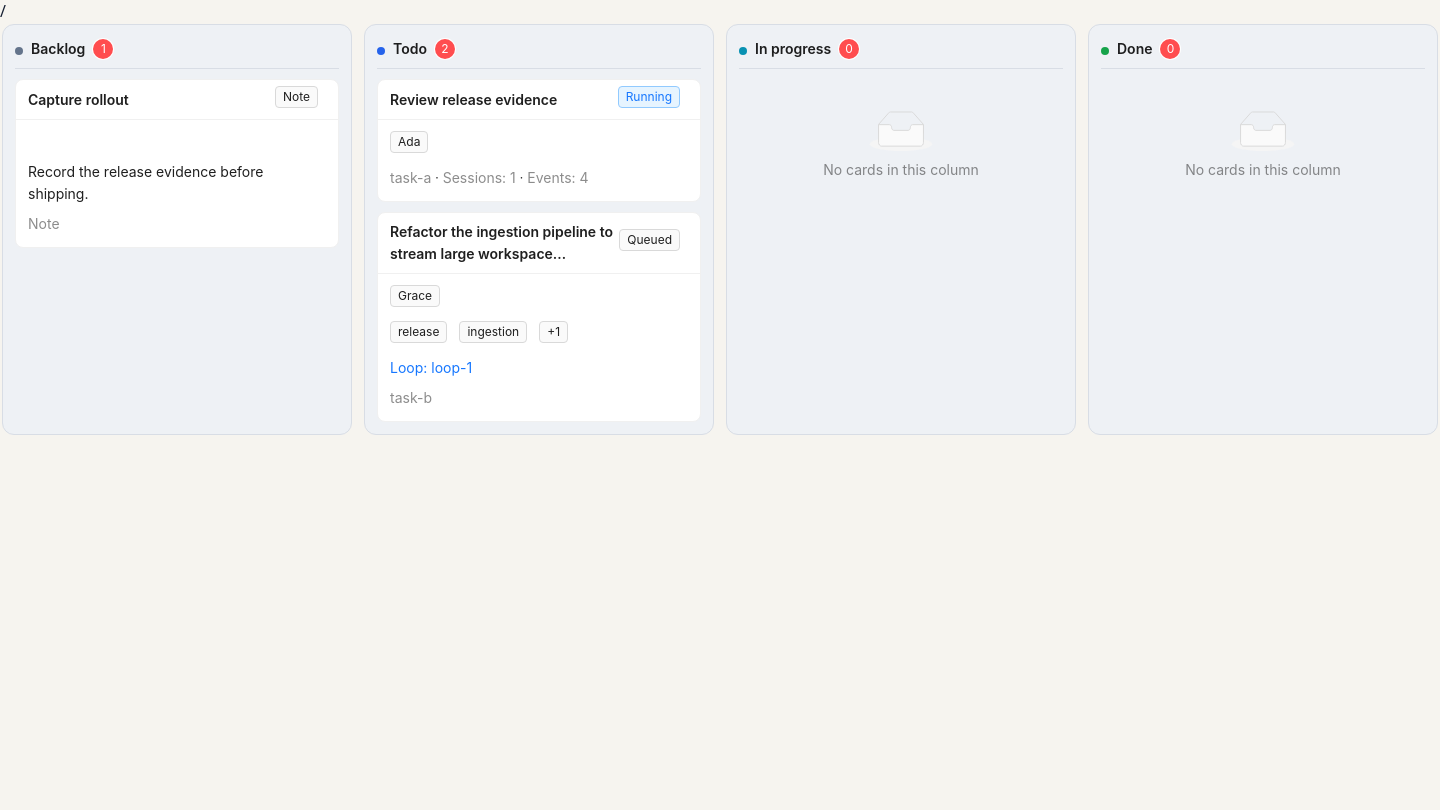
Test: TaskBoardGrid Start confirmation › rolls back with a board refetch and error toast when starting the dropped task fails
This screenshot has width=1440, height=810.
Press the mouse on the link with aria-label "Open task detail: Refactor the ingestion pipeline to stream" at [539, 317], box [377,212,701,422]
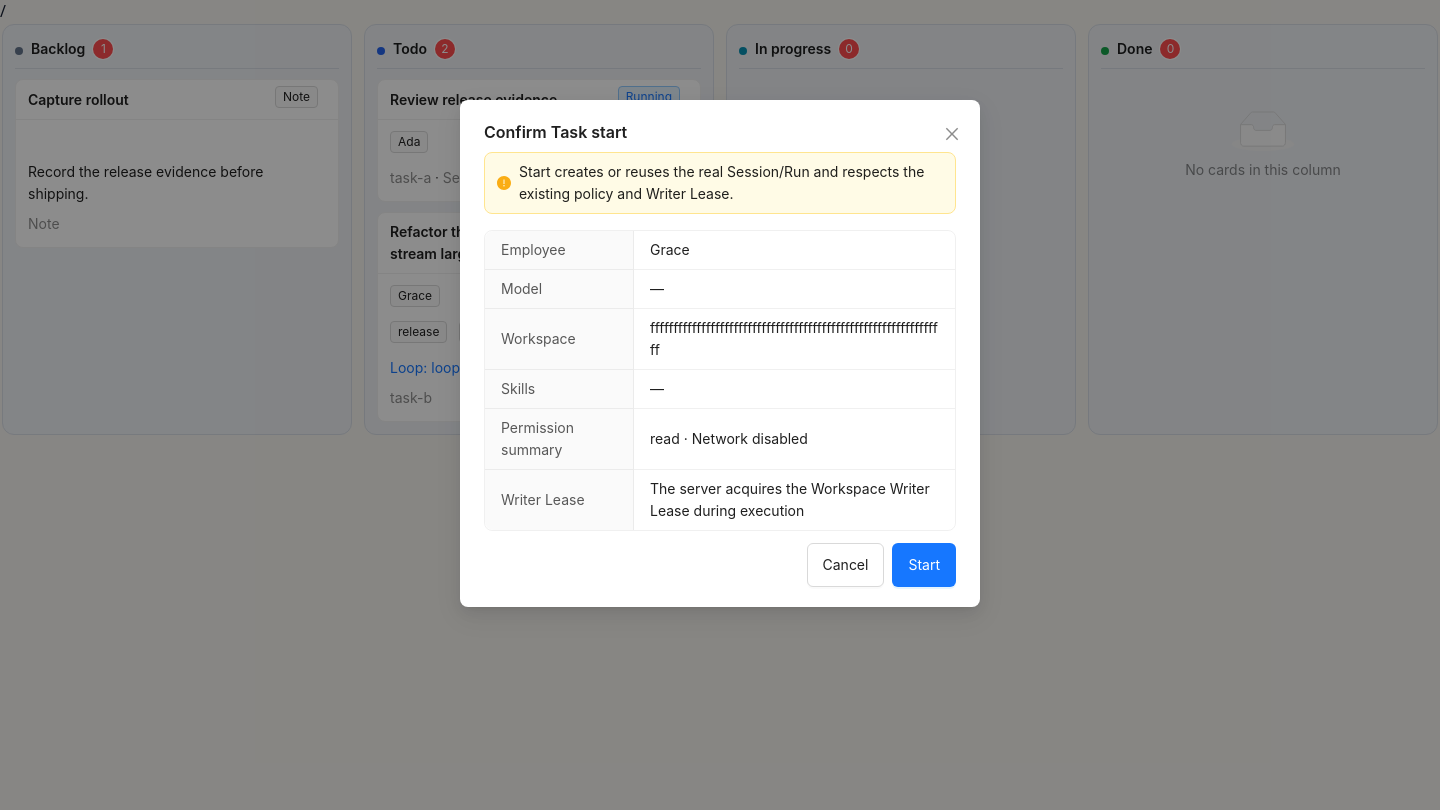
expect the text "Confirm Task start" is shown: met, box [484,122,627,142]
Click the button "Start" at [924, 565], box [892,543,956,587]
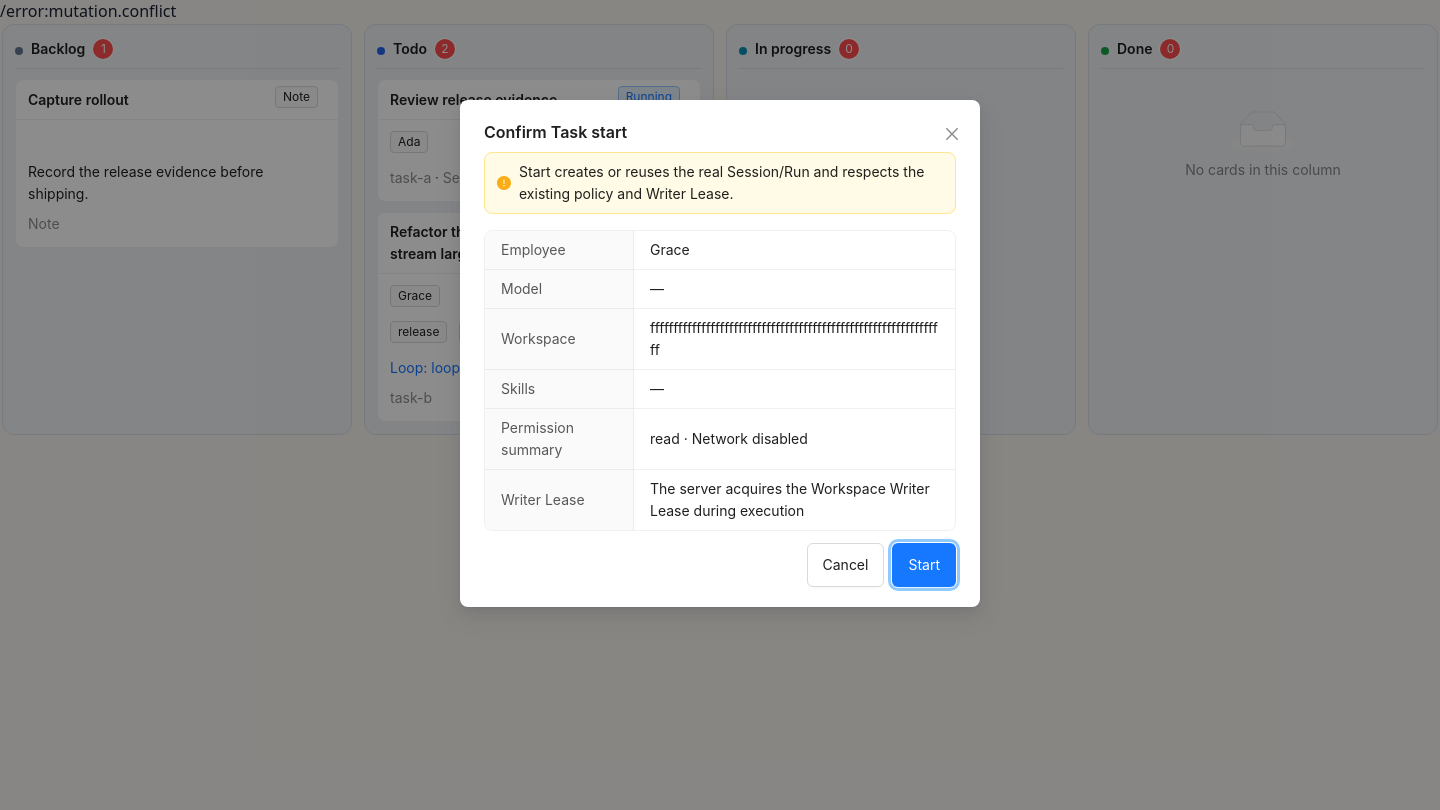
expect the text with test id "grid-toast" reads "error:mutation.conflict": met, box [6,0,176,22]
